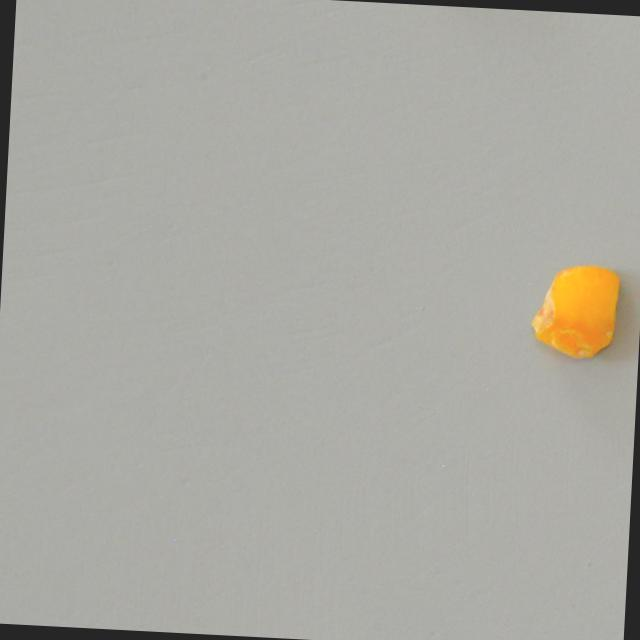dañado: (527, 257, 628, 368)
